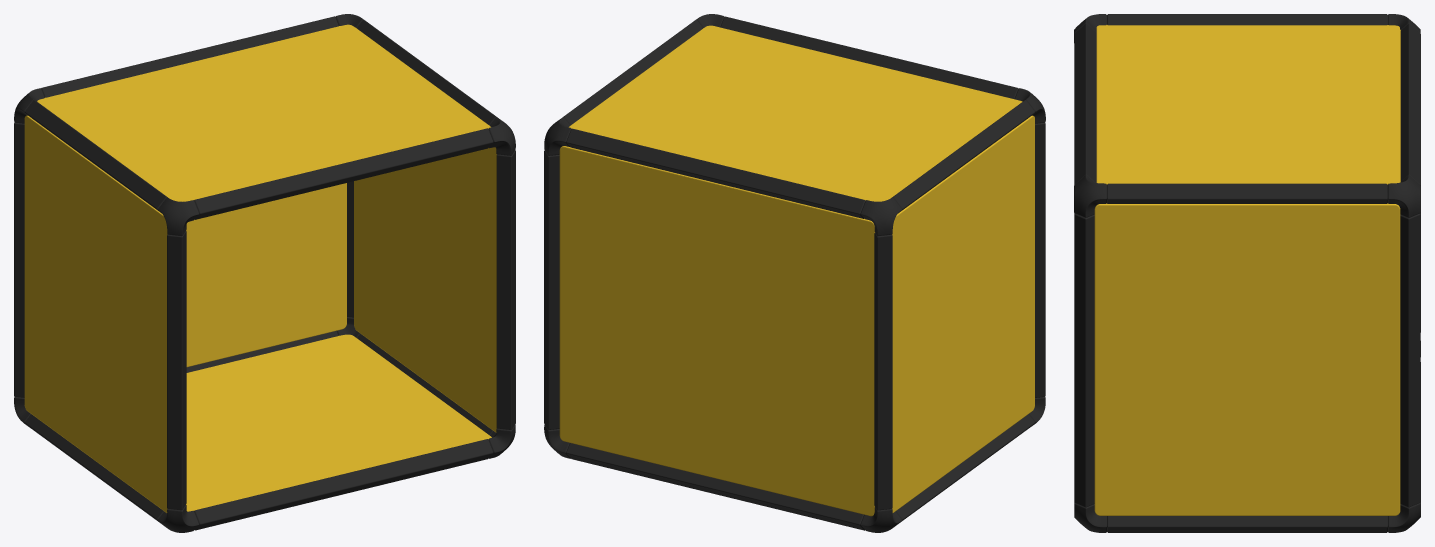
3 views of the same model, side by side, from view 1: azimuth 30°, elevation 25°; view 2: azimuth 150°, elevation 25°; view 3: azimuth 270°, elevation 25° (orthographic). The views are drawn at different scales.
Visible parts, largest first — view 1: 420x329x374; view 2: 420x329x374; view 3: 420x329x374.
Boxes of the visible parts, bbox=[...] form: 420x329x374: bbox=[14, 14, 515, 532]; 420x329x374: bbox=[544, 14, 1045, 532]; 420x329x374: bbox=[1074, 14, 1420, 532].
Size of the model in its own units: 0.4977 by 0.4516 by 0.4063.
